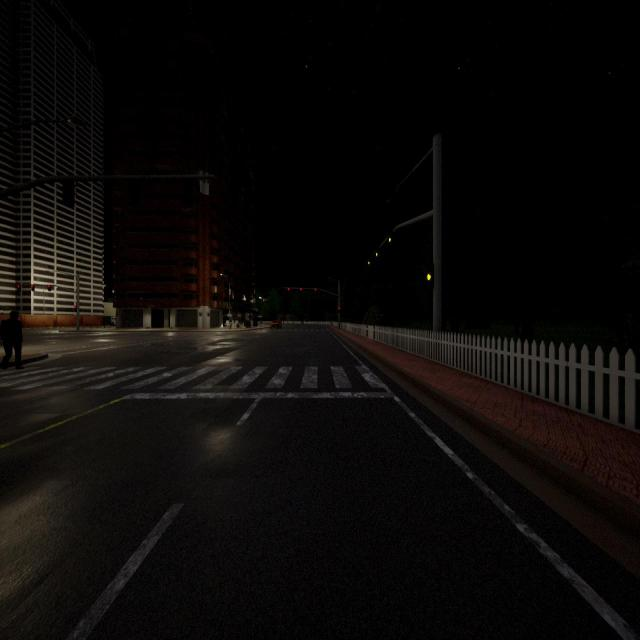Pedestrian: (0, 308, 25, 371)
Vehicle: (102, 316, 116, 327), (269, 319, 282, 330)
traffic_light: (62, 176, 76, 206), (427, 265, 435, 289), (16, 283, 21, 293), (31, 284, 35, 292), (48, 285, 51, 291), (74, 306, 77, 312), (338, 307, 340, 313), (376, 252, 378, 258), (368, 261, 370, 265), (389, 238, 391, 242), (288, 288, 290, 291), (300, 288, 302, 291), (314, 288, 317, 290)
